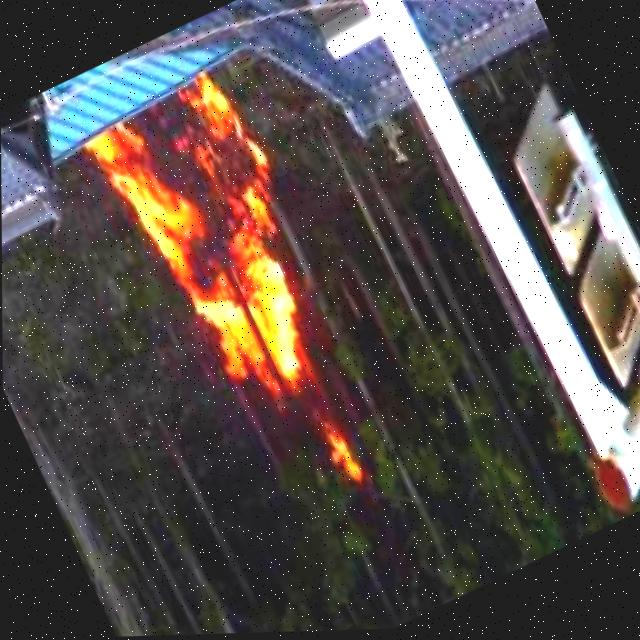Fire: (83, 67, 365, 444), (306, 402, 368, 497)
